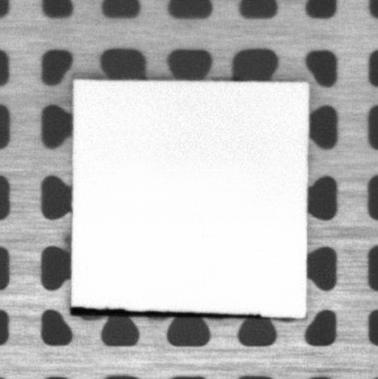DIE_BROKEN: (68, 305, 264, 319)
